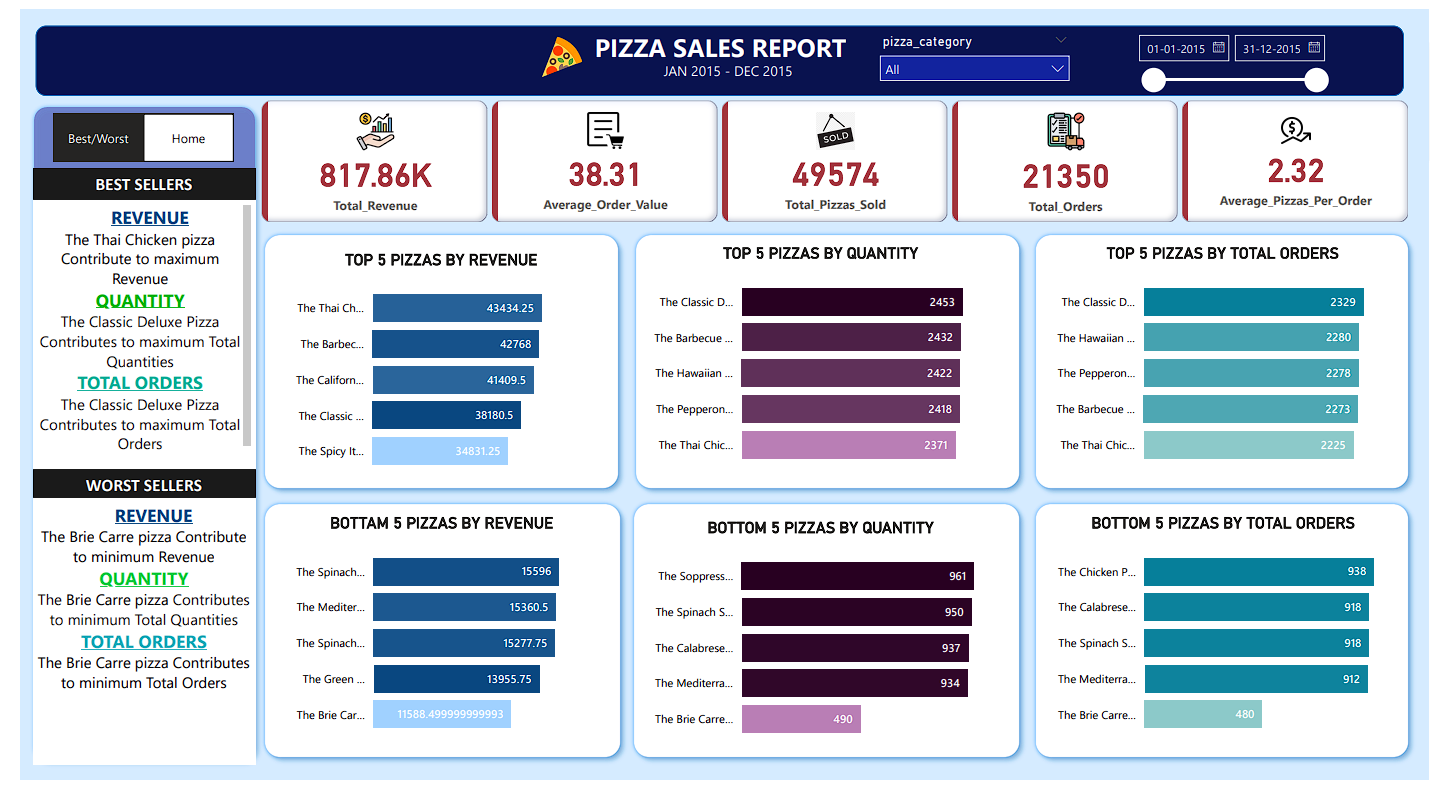

This screenshot's page, from the dashboard's own definition file:
{"tool":"powerbi","page":{"name":"Best/Worst","canvas":[1500,820],"ordinal":1},"visuals":[{"type":"cardVisual","fields":{"Data":["pizza_sales.Total_Revenue","pizza_sales.Average_Order_Value","pizza_sales.Total_Pizzas_Sold","pizza_sales.Total_Orders","pizza_sales.Average_Pizzas_Per_Order"]},"box":[252.1,91.9,1233.9,139.3],"z":0},{"type":"shape","box":[15.6,17,1457.7,75.2],"z":1000},{"type":"textbox","box":[561.2,16.7,369.1,59.9],"z":2000},{"type":"textbox","box":[644.8,50.1,213.1,46],"z":3000},{"type":"image","box":[532,16.7,87.7,66.8],"z":4000},{"type":"shape","box":[252.4,231.1,392.8,286.4],"z":5000},{"type":"shape","box":[5.7,95,252.4,711.9],"z":6000},{"type":"textbox","box":[12.8,168.7,236.8,35.5],"z":7000},{"type":"textbox","box":[12.8,202.8,236.8,286.4],"z":8000},{"type":"slicer","fields":{"Values":["pizza_sales.pizza_category"]},"box":[904.7,21.3,222.6,59.6],"z":9000},{"type":"slicer","fields":{"Values":["pizza_sales.order_date"]},"box":[1178.4,17,222.6,78],"z":10000},{"type":"shape","box":[646.6,231.1,425.4,286.4],"z":11000},{"type":"shape","box":[1072,231.1,414.1,286.4],"z":12000},{"type":"shape","box":[252.4,517.6,394.2,286.4],"z":13000},{"type":"shape","box":[645.2,517.6,426.8,286.4],"z":14000},{"type":"shape","box":[1072,517.6,414.1,286.4],"z":15000},{"type":"barChart","title":"TOP 5 PIZZAS BY REVENUE","fields":{"Category":["pizza_sales.pizza_name"],"Y":["pizza_sales.Total_Revenue"]},"box":[276.5,256.2,343.9,249.5],"z":16000},{"type":"barChart","title":"BOTTAM 5 PIZZAS BY REVENUE","fields":{"Category":["pizza_sales.pizza_name"],"Y":["pizza_sales.Total_Revenue"]},"box":[276.5,536,343.2,249.6],"z":17000},{"type":"barChart","title":"TOP 5 PIZZAS BY QUANTITY","fields":{"Category":["pizza_sales.pizza_name"],"Y":["pizza_sales.Total_Pizzas_Sold"]},"box":[659.1,249.5,386,249.5],"z":18000},{"type":"barChart","title":"BOTTOM 5 PIZZAS BY QUANTITY","fields":{"Category":["pizza_sales.pizza_name"],"Y":["pizza_sales.Total_Pizzas_Sold"]},"box":[659.1,541.1,386,249.5],"z":19000},{"type":"barChart","title":"TOP 5 PIZZAS BY TOTAL ORDERS","fields":{"Category":["pizza_sales.pizza_name"],"Y":["pizza_sales.Total_Orders"]},"box":[1087.3,249.5,386,249.5],"z":20000},{"type":"barChart","title":"BOTTOM 5 PIZZAS BY TOTAL ORDERS","fields":{"Category":["pizza_sales.pizza_name"],"Y":["pizza_sales.Total_Orders"]},"box":[1087.6,536,385.7,249.6],"z":21000},{"type":"textbox","box":[12.8,489.2,236.8,35.5],"z":22000},{"type":"textbox","box":[12.8,520.4,236.8,283.6],"z":23000},{"type":"pageNavigator","box":[34.8,111.4,96.1,50.1],"z":24000},{"type":"pageNavigator","box":[130.9,111.4,96.1,50.1],"z":25000}]}

Visuals, with their boxes in screenshot pixels (x1, y1, x2, y2), scaled from the page's 1500x820 canvas onto the 1444x797 screenshot:
cardVisual - pizza_sales.Total_Revenue x pizza_sales.Average_Order_Value: {"x1": 243, "y1": 89, "x2": 1431, "y2": 225}
shape: {"x1": 15, "y1": 17, "x2": 1418, "y2": 90}
textbox: {"x1": 540, "y1": 16, "x2": 896, "y2": 74}
textbox: {"x1": 621, "y1": 49, "x2": 826, "y2": 93}
image: {"x1": 512, "y1": 16, "x2": 597, "y2": 81}
shape: {"x1": 243, "y1": 225, "x2": 621, "y2": 503}
shape: {"x1": 5, "y1": 92, "x2": 248, "y2": 784}
textbox: {"x1": 12, "y1": 164, "x2": 240, "y2": 198}
textbox: {"x1": 12, "y1": 197, "x2": 240, "y2": 475}
slicer - pizza_sales.pizza_category: {"x1": 871, "y1": 21, "x2": 1085, "y2": 79}
slicer - pizza_sales.order_date: {"x1": 1134, "y1": 17, "x2": 1349, "y2": 92}
shape: {"x1": 622, "y1": 225, "x2": 1032, "y2": 503}
shape: {"x1": 1032, "y1": 225, "x2": 1431, "y2": 503}
shape: {"x1": 243, "y1": 503, "x2": 622, "y2": 781}
shape: {"x1": 621, "y1": 503, "x2": 1032, "y2": 781}
shape: {"x1": 1032, "y1": 503, "x2": 1431, "y2": 781}
"TOP 5 PIZZAS BY REVENUE" barChart: {"x1": 266, "y1": 249, "x2": 597, "y2": 492}
"BOTTAM 5 PIZZAS BY REVENUE" barChart: {"x1": 266, "y1": 521, "x2": 597, "y2": 764}
"TOP 5 PIZZAS BY QUANTITY" barChart: {"x1": 634, "y1": 243, "x2": 1006, "y2": 485}
"BOTTOM 5 PIZZAS BY QUANTITY" barChart: {"x1": 634, "y1": 526, "x2": 1006, "y2": 768}
"TOP 5 PIZZAS BY TOTAL ORDERS" barChart: {"x1": 1047, "y1": 243, "x2": 1418, "y2": 485}
"BOTTOM 5 PIZZAS BY TOTAL ORDERS" barChart: {"x1": 1047, "y1": 521, "x2": 1418, "y2": 764}
textbox: {"x1": 12, "y1": 475, "x2": 240, "y2": 510}
textbox: {"x1": 12, "y1": 506, "x2": 240, "y2": 781}
pageNavigator: {"x1": 34, "y1": 108, "x2": 126, "y2": 157}
pageNavigator: {"x1": 126, "y1": 108, "x2": 219, "y2": 157}
